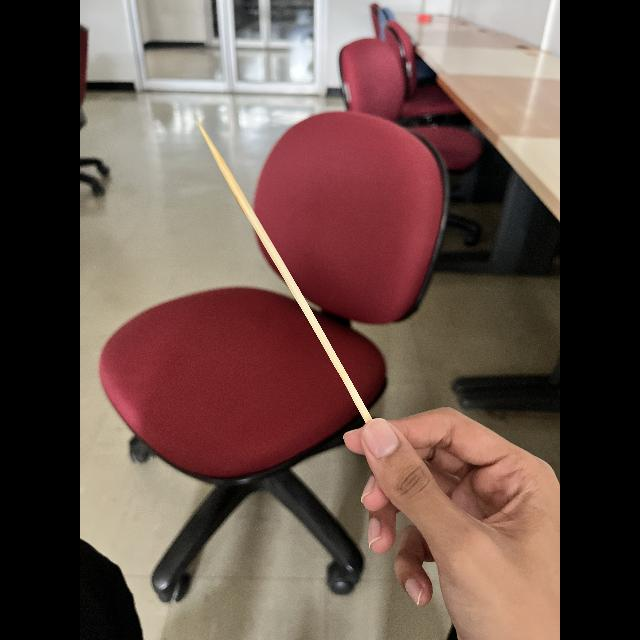stick: (186, 116, 374, 428)
